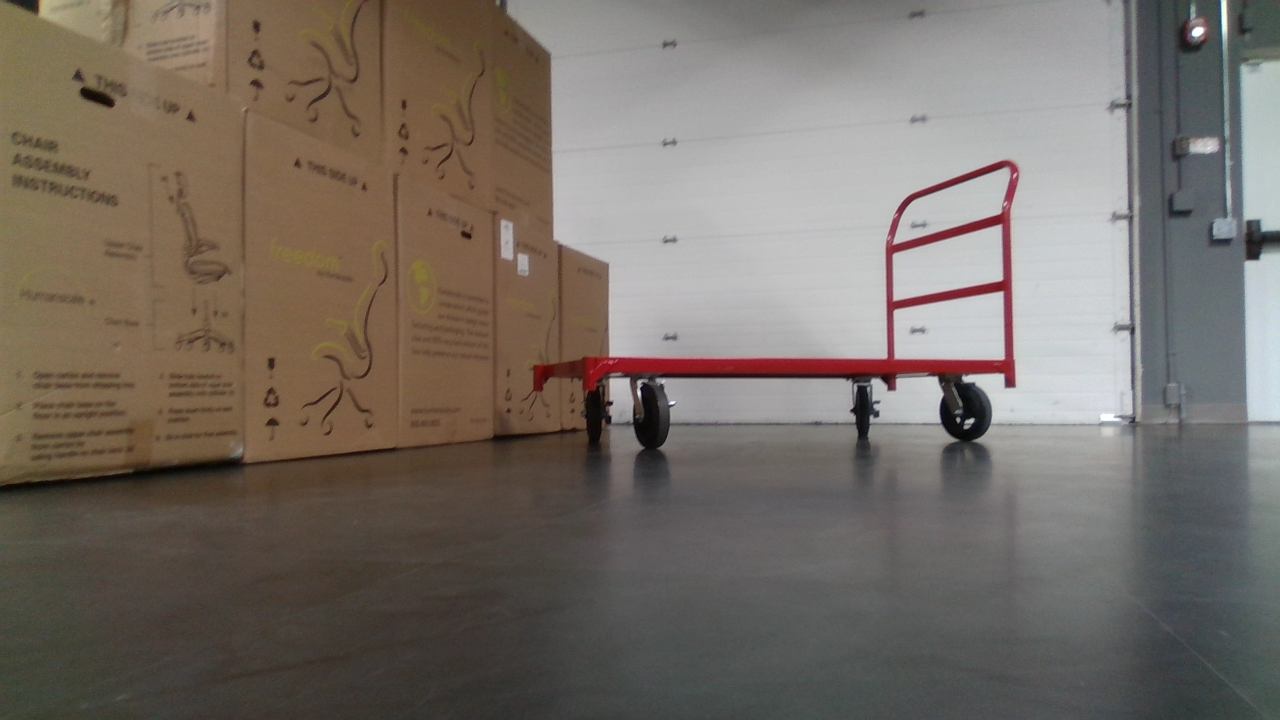Dolly: (523, 152, 1025, 457)
Wheel: (939, 382, 991, 441), (632, 379, 674, 452), (580, 386, 610, 447), (849, 383, 875, 442)
